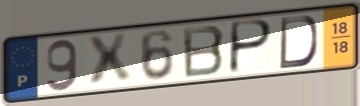6: (138, 28, 176, 83)
9: (45, 38, 80, 94)
B: (180, 24, 227, 81)
D: (276, 14, 320, 71)
P: (227, 18, 275, 76)
X: (84, 31, 135, 90)
